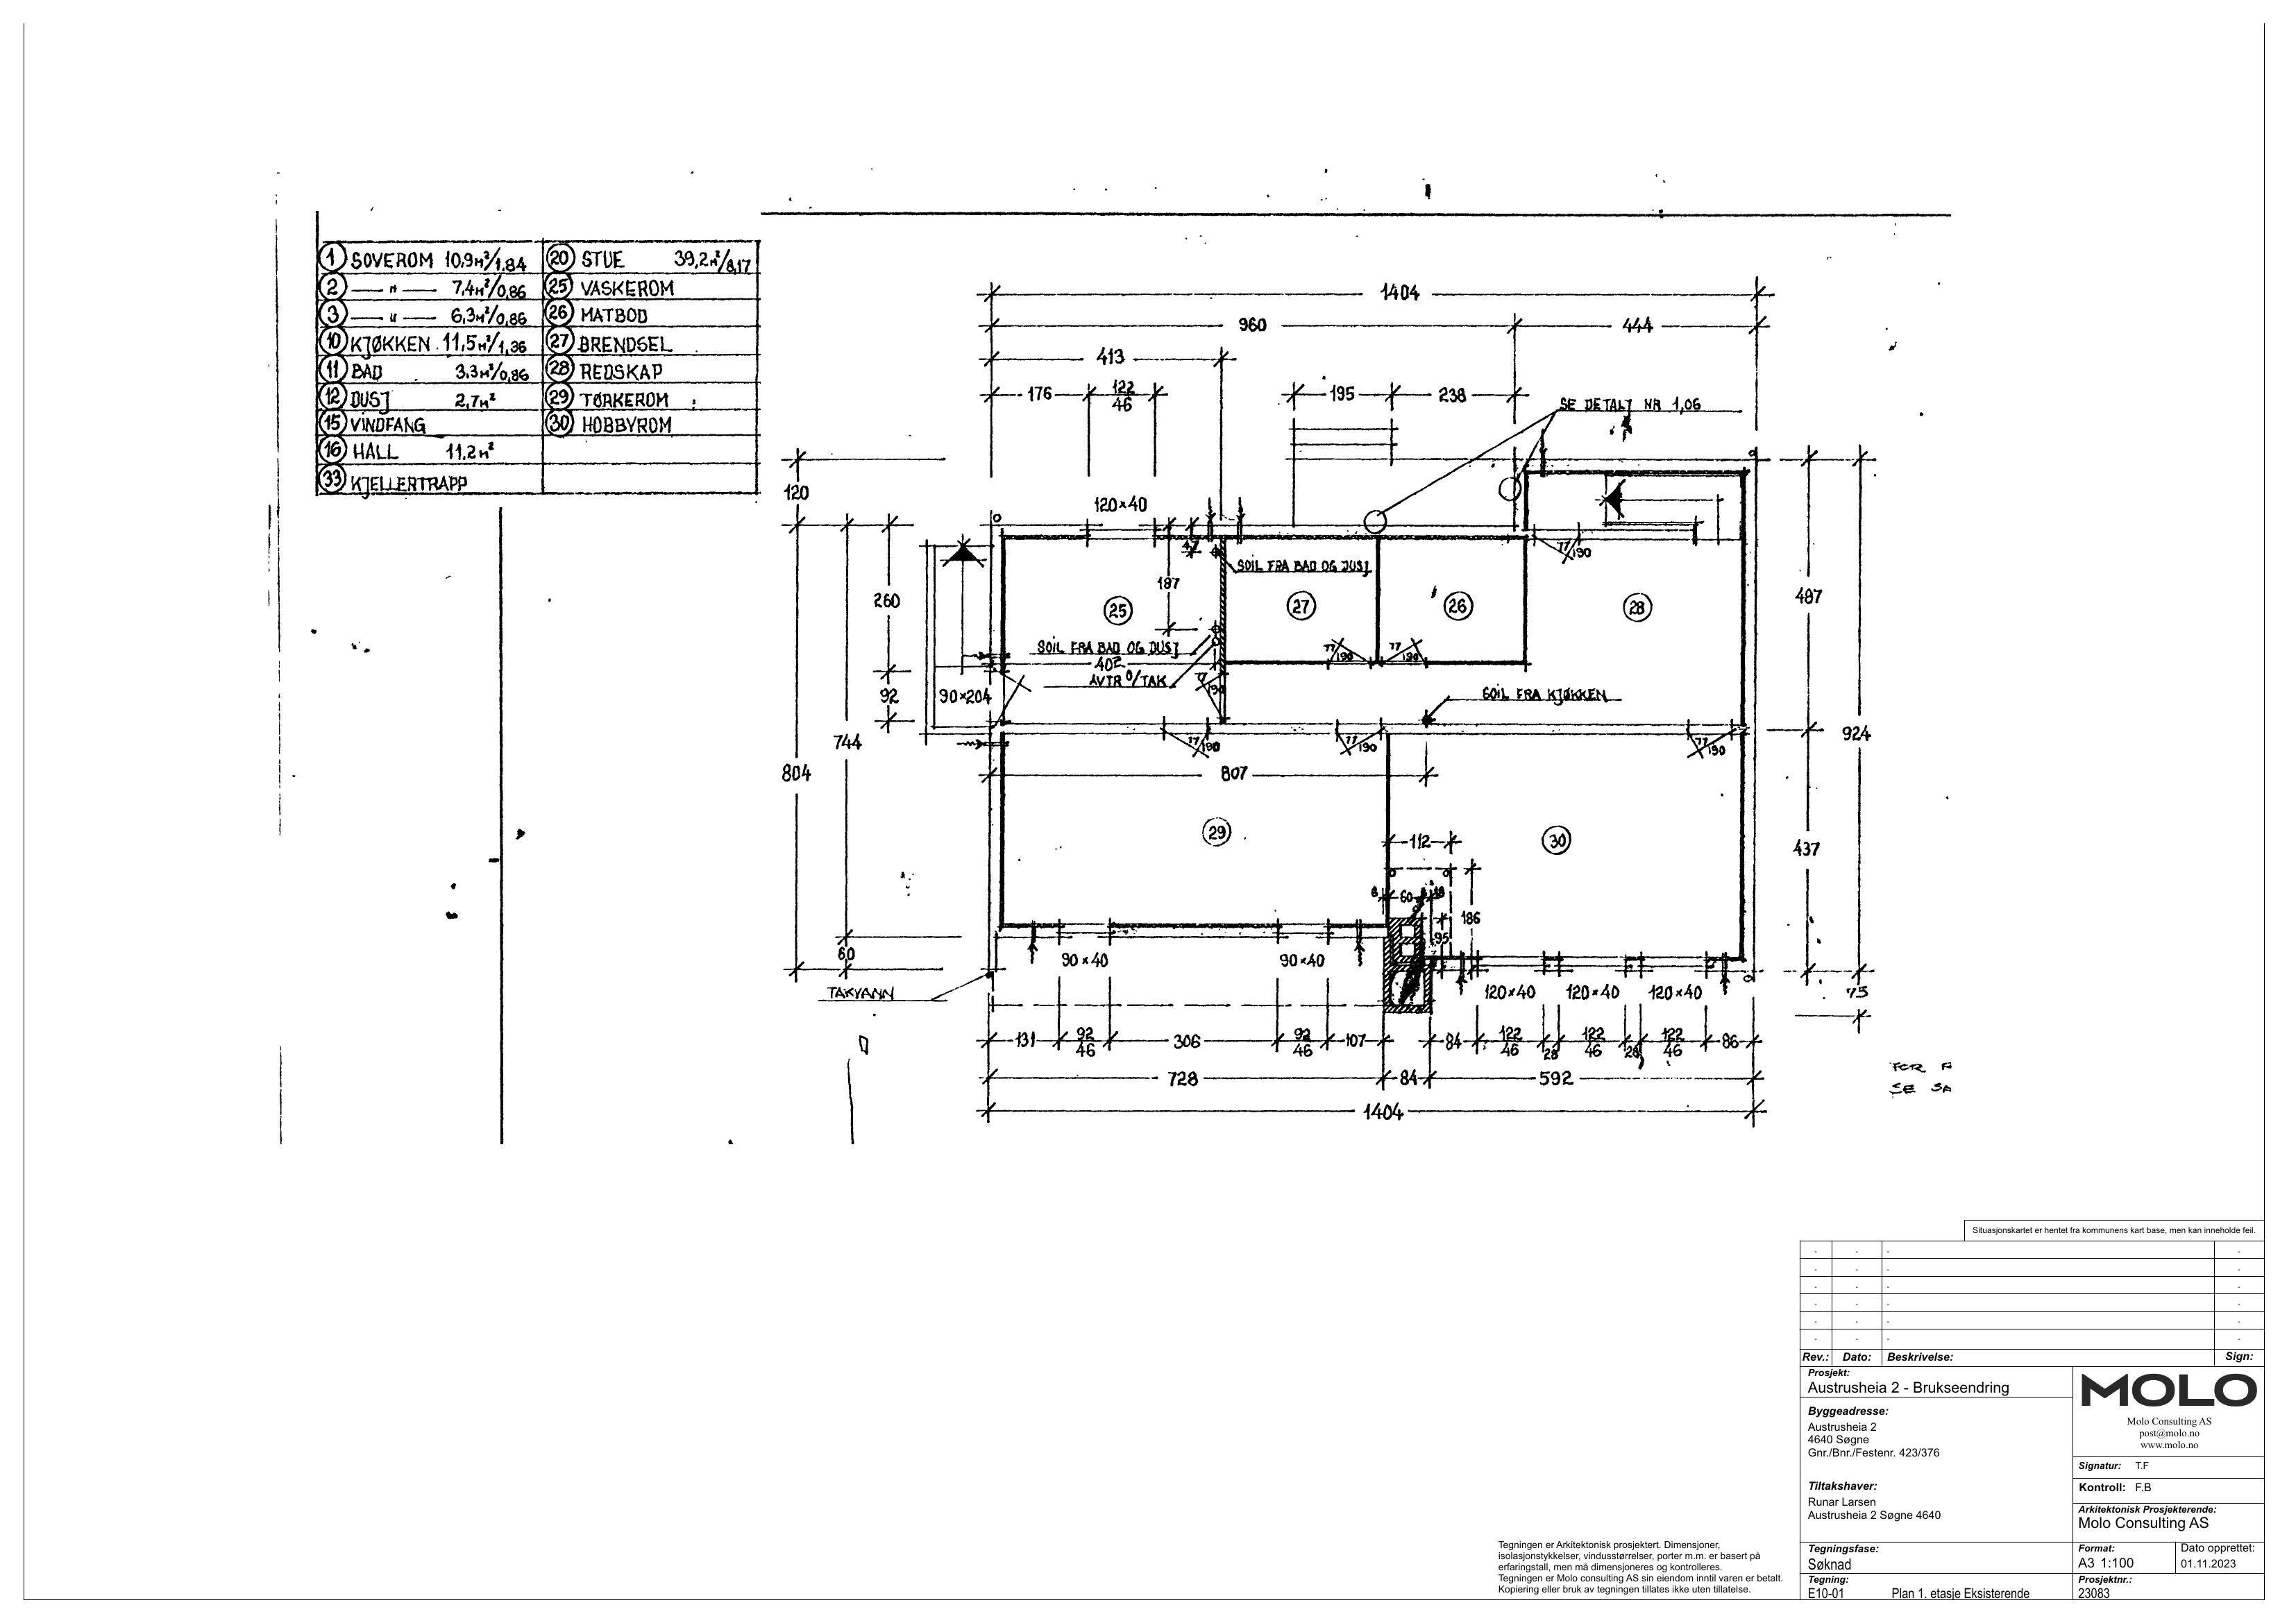plantegning: (785, 276, 1888, 1135)
